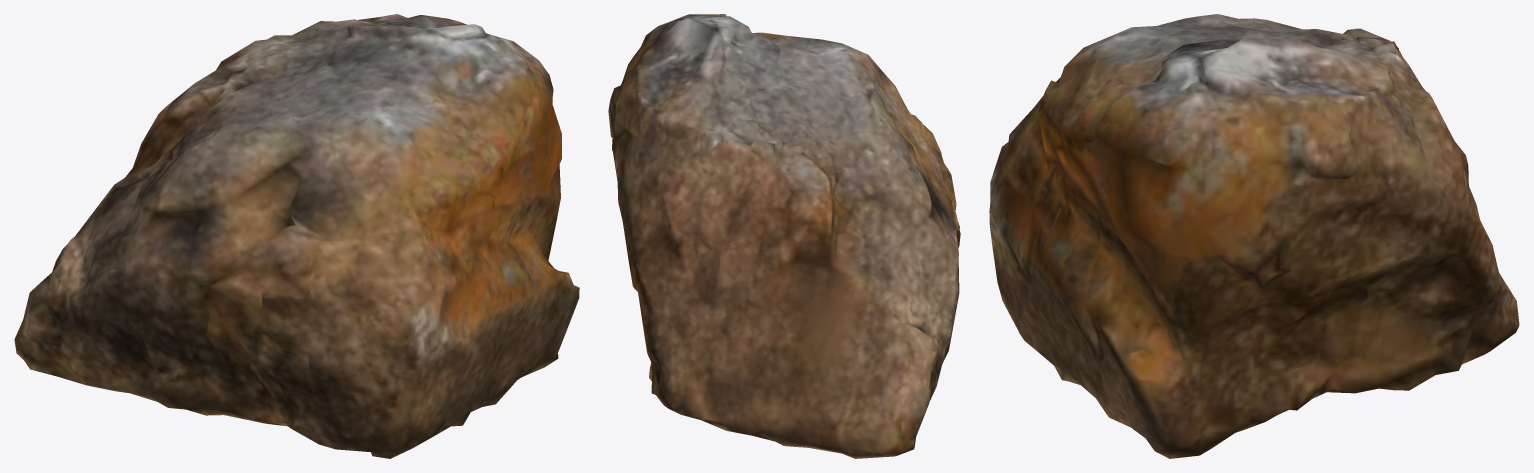
The model's file is rocher_granite_lod1.glb.
The picture shows the model from 3 angles, left to right: view 1: azimuth 30°, elevation 25°; view 2: azimuth 150°, elevation 25°; view 3: azimuth 270°, elevation 25°; orthographic projection. The views are drawn at different scales.
Parts seen in each view (by area): view 1: boulder_04; view 2: boulder_04; view 3: boulder_04.
Part boxes in pixels (left/top/right/bottom): boulder_04: left=14, top=14, right=579, bottom=458; boulder_04: left=608, top=14, right=960, bottom=458; boulder_04: left=989, top=14, right=1519, bottom=458.
Bounding box in the file's own units: 2.52 × 1.9 × 2.48.
Materials: 1 (1 with a texture image).
